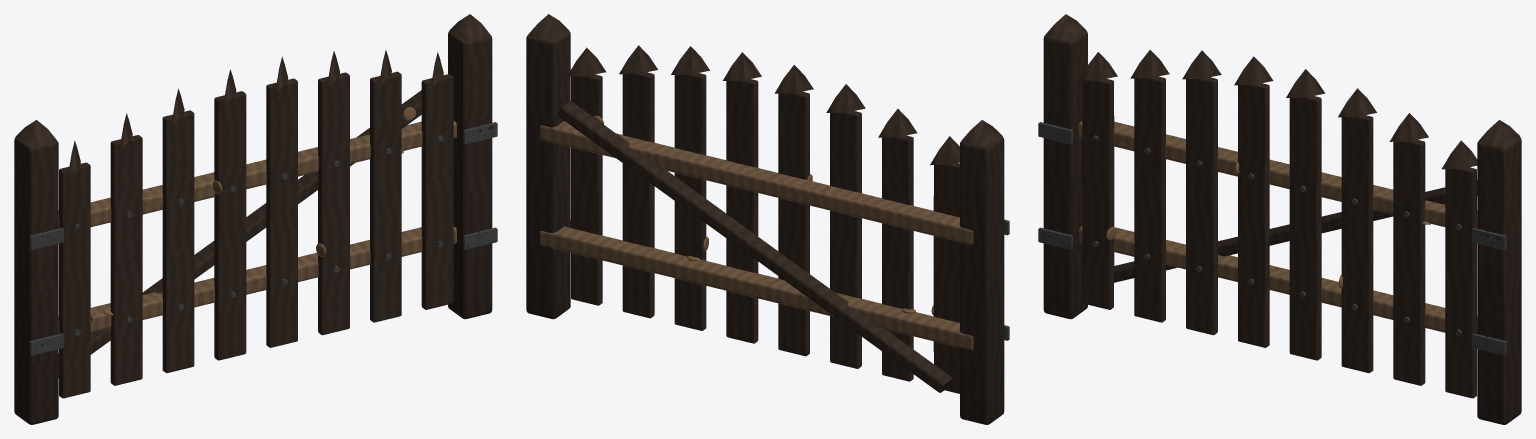
The picture shows the model from 3 angles, left to right: view 1: azimuth 30°, elevation 25°; view 2: azimuth 150°, elevation 25°; view 3: azimuth 330°, elevation 25°; orthographic projection.
Parts seen in each view (by area): view 1: heartwood, cut grain, forged iron; view 2: heartwood, cut grain; view 3: heartwood, cut grain, forged iron.
Part boxes in pixels (box(x1,y1,x2,y2)): heartwood: box(14, 14, 492, 424); cut grain: box(58, 121, 456, 333); forged iron: box(29, 122, 497, 355); heartwood: box(526, 14, 1004, 424); cut grain: box(540, 121, 973, 350); heartwood: box(1043, 14, 1521, 424); cut grain: box(1079, 121, 1477, 333); forged iron: box(1038, 122, 1506, 355).
Size of the model in its own units: 1.85 by 1.15 by 0.1792.
Materials: 5 (3 with a texture image).
